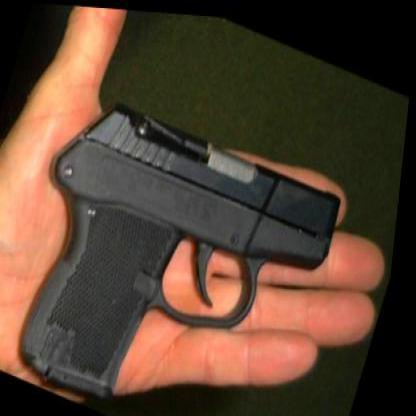pistol: (0, 69, 358, 414)
